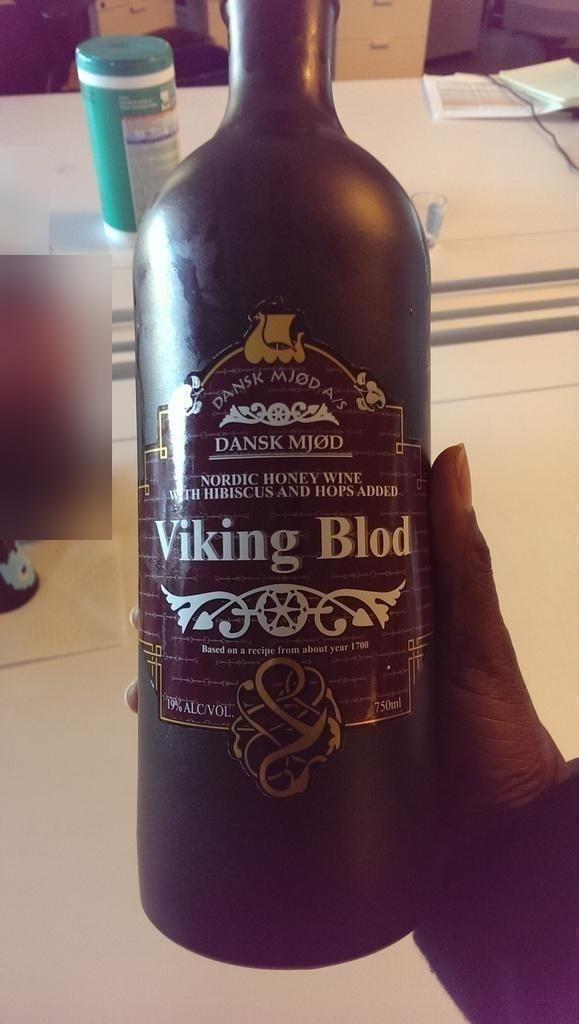bottle-glass: (128, 1, 446, 974)
